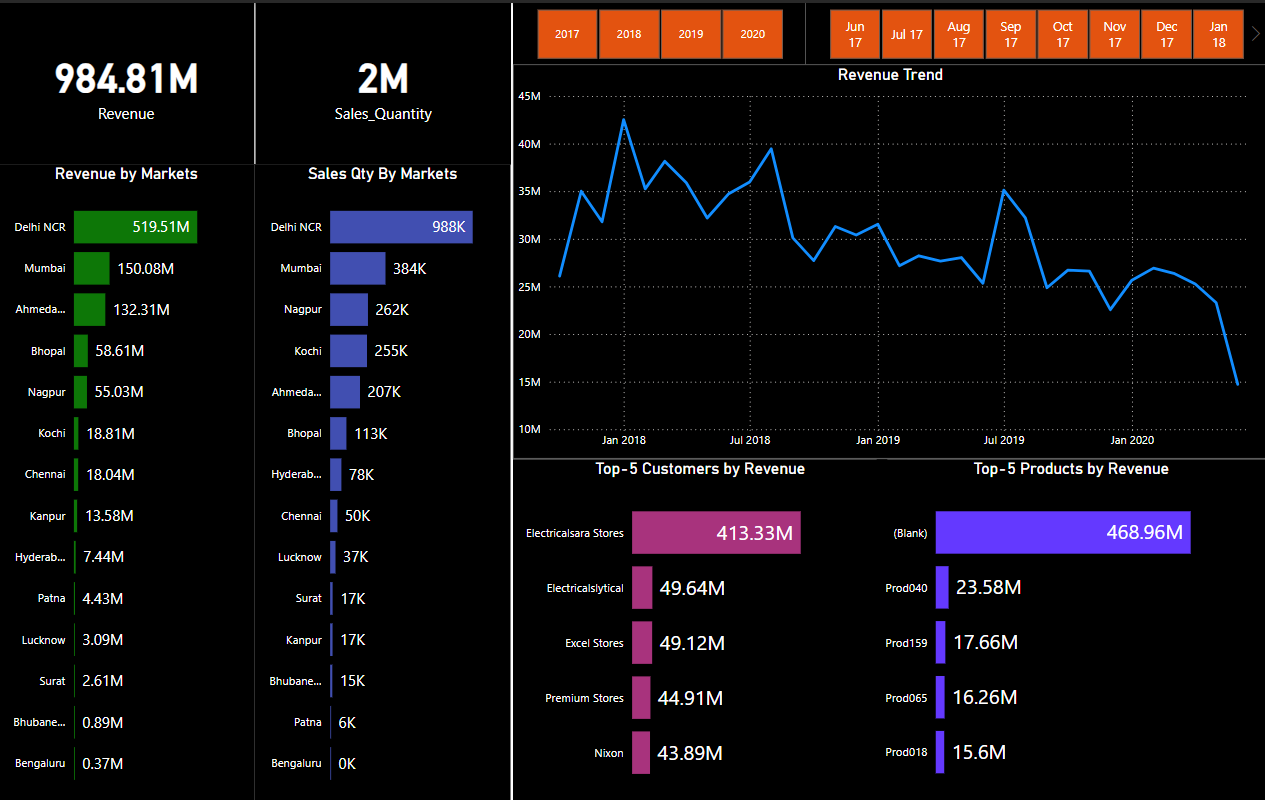

The dashboard page shown, as its layout file describes it:
{"tool":"powerbi","page":{"name":"Page 1","canvas":[1350,850],"ordinal":0},"visuals":[{"type":"card","fields":{"Values":["BaseMeasures.Revenue"]},"box":[0,0,273.2,171.8],"z":0},{"type":"card","fields":{"Values":["BaseMeasures.Sales_Quantity"]},"box":[273.9,0,272.4,171.9],"z":1000},{"type":"barChart","title":"Revenue by Markets","fields":{"Y":["BaseMeasures.Revenue"],"Category":["sales markets.markets_name"]},"box":[0,171.8,273.2,678.5],"z":2000},{"type":"barChart","title":"Sales Qty By Markets","fields":{"Category":["sales markets.markets_name"],"Y":["BaseMeasures.Sales_Quantity"]},"box":[273.2,171.8,273.2,678.5],"z":3000},{"type":"slicer","fields":{"Values":["sales date.year"]},"box":[547.8,0,311.3,66.1],"z":4000},{"type":"slicer","fields":{"Values":["sales date.cy_date"]},"box":[859.1,0,490.5,66.1],"z":5000},{"type":"barChart","title":"Top-5 Customers by Revenue","fields":{"Y":["BaseMeasures.Revenue"],"Category":["sales customers.custmer_name"]},"box":[547.8,485.4,398.7,365.2],"z":6000},{"type":"barChart","title":"Top-5 Products by Revenue","fields":{"Y":["BaseMeasures.Revenue"],"Category":["sales products.product_code"]},"box":[936,486,414,364.5],"z":7000},{"type":"lineChart","title":"Revenue Trend","fields":{"Y":["BaseMeasures.Revenue"],"Category":["sales date.cy_date.Variation.Date Hierarchy.Year","sales date.cy_date.Variation.Date Hierarchy.Quarter","sales date.cy_date.Variation.Date Hierarchy.Month","sales date.cy_date.Variation.Date Hierarchy.Day"]},"box":[547.8,65.4,801.9,420],"z":8000}]}

Visuals, with their boxes in screenshot pixels (x1, y1, x2, y2), scaled from the page's 1350x850 canvas onto the 1265x800 screenshot:
card - BaseMeasures.Revenue: 0,0,256,162
card - BaseMeasures.Sales_Quantity: 257,0,512,162
"Revenue by Markets" barChart: 0,162,256,799
"Sales Qty By Markets" barChart: 256,162,512,799
slicer - sales date.year: 513,0,805,62
slicer - sales date.cy_date: 805,0,1264,62
"Top-5 Customers by Revenue" barChart: 513,457,887,799
"Top-5 Products by Revenue" barChart: 877,457,1264,799
"Revenue Trend" lineChart: 513,62,1264,457
